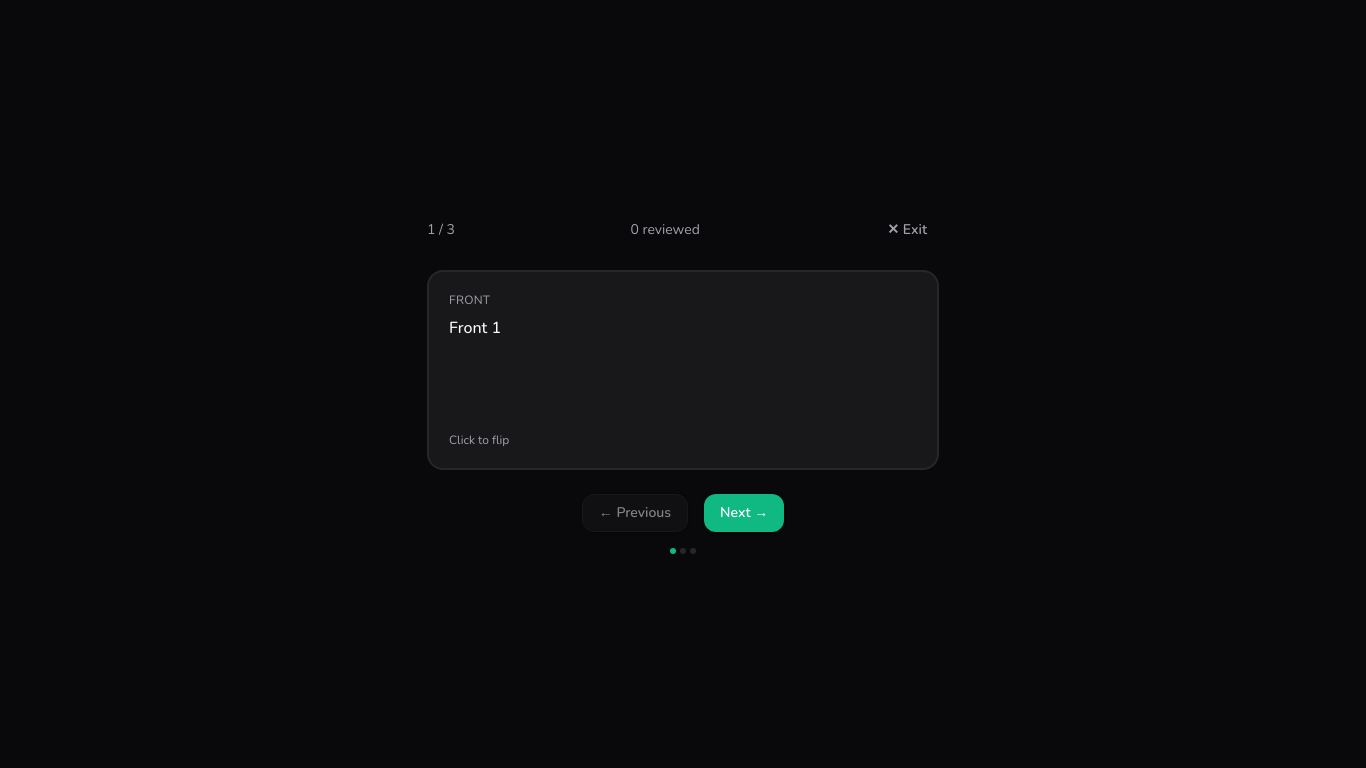
Test: FlashCardStudyMode › navigates to next card
The image size is (1366, 768).
expect the text "1 / 3" is shown: met, box x1=427 y1=220 x2=455 y2=240
Click the button "Next →" at (744, 513), box x1=704 y1=494 x2=784 y2=532
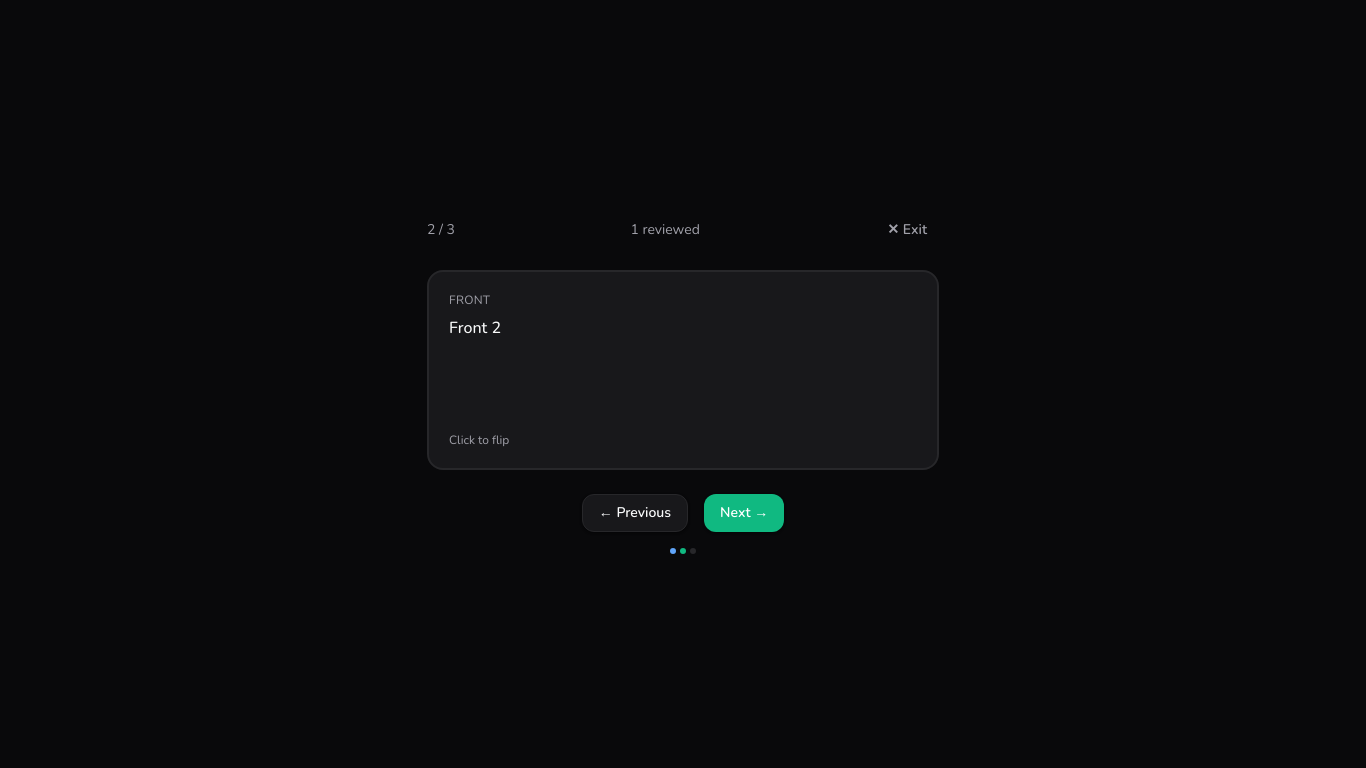
expect the text "2 / 3" is shown: met, box x1=427 y1=220 x2=455 y2=240
